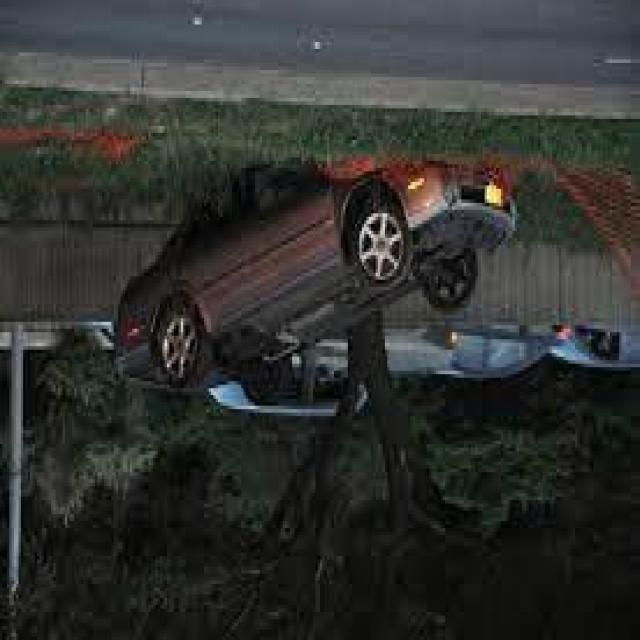severe: (112, 159, 520, 401)
